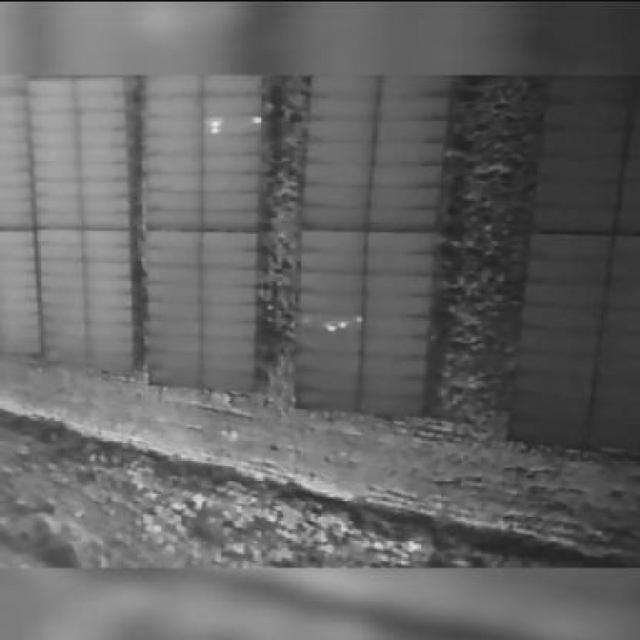hotspot: (205, 127, 224, 133), (325, 323, 337, 332), (353, 314, 365, 323), (337, 320, 346, 328), (210, 120, 221, 126), (251, 117, 266, 121)
